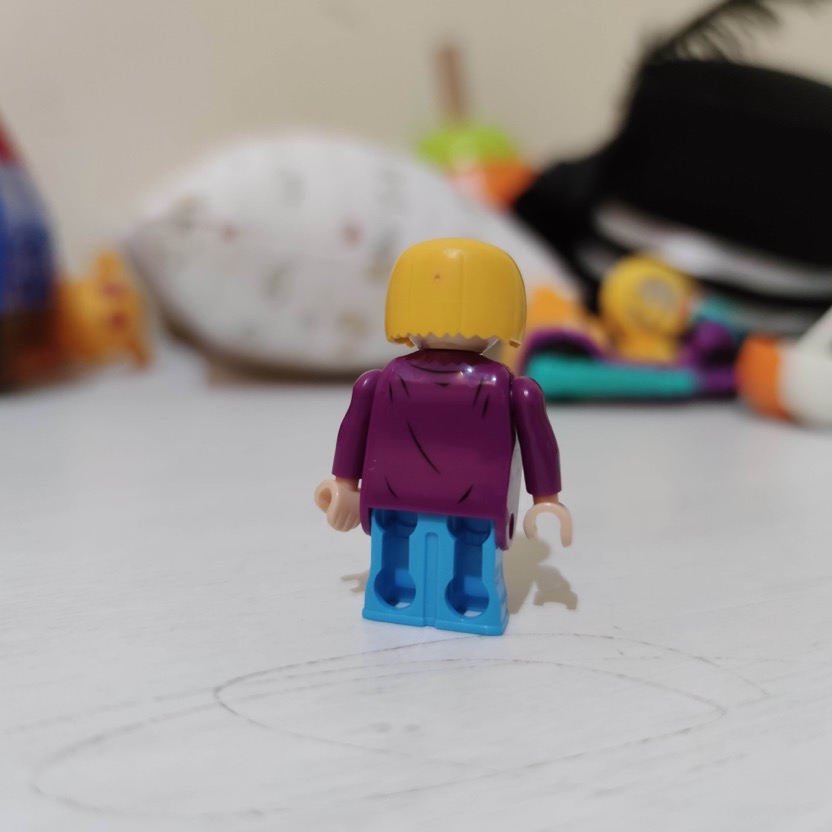lego: (314, 235, 575, 641)
